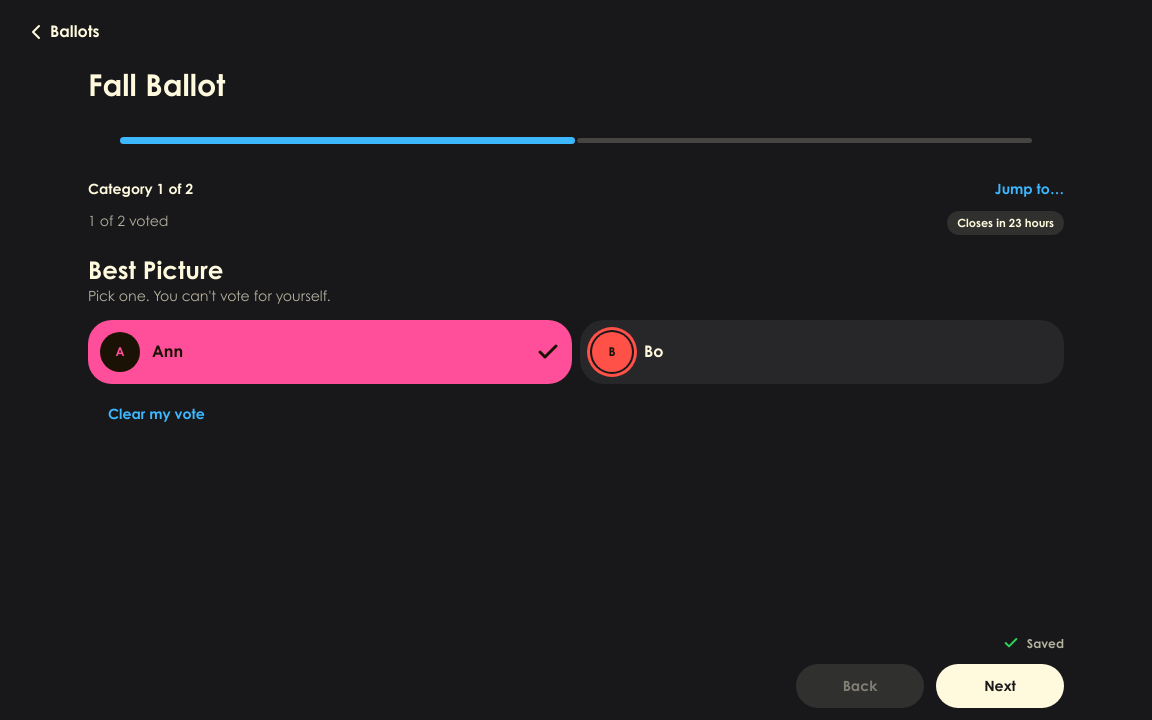
Test: VotePage behavior › failed save falls back to the last confirmed vote
The image size is (1152, 720).
Expected: the element "Best Picture" is shown, 88,255 -> 1064,436
Click the radio button labelled "B Bo".
click(612, 352)  # box 580,320 -> 1064,384
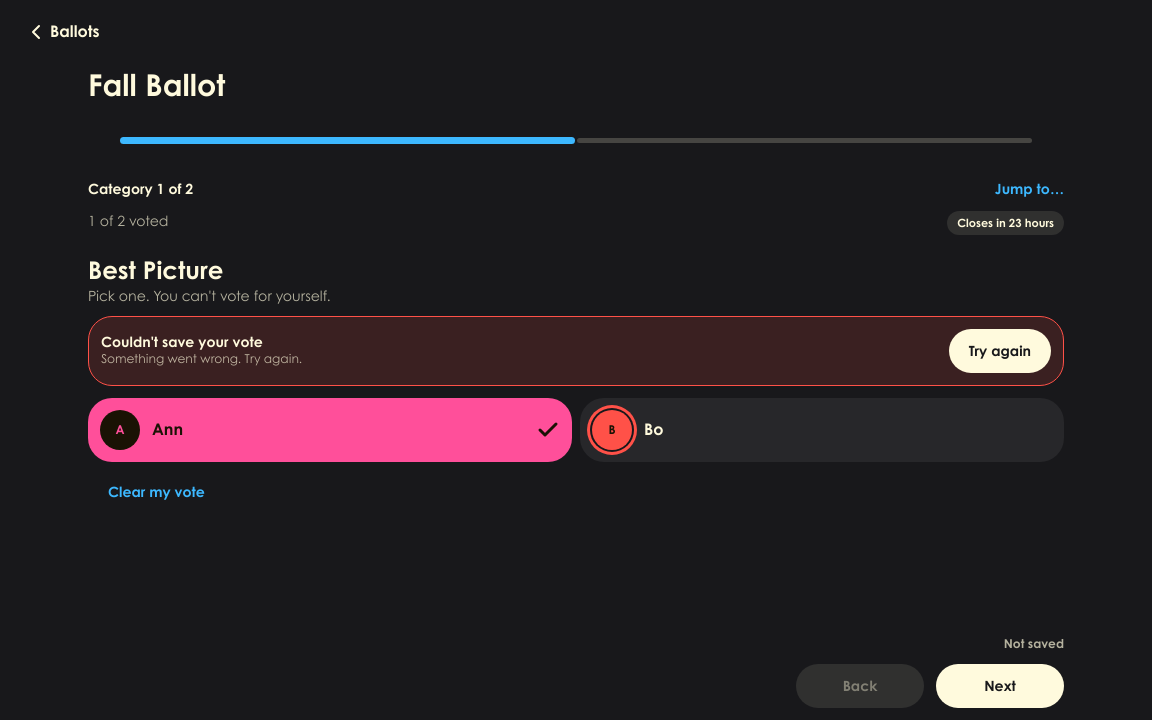
Now the message "Couldn't save your vote Something went wrong. Try again. Try again" is shown, box 88,316 -> 1064,386
